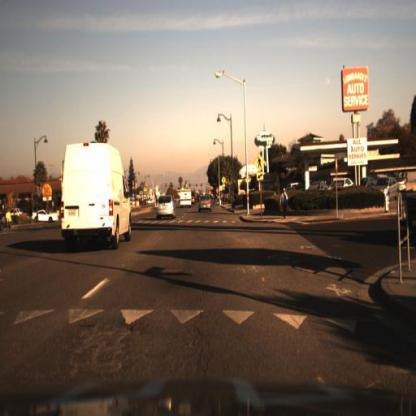car: (62, 142, 132, 249), (155, 193, 178, 222), (329, 176, 356, 197), (32, 208, 59, 226), (179, 187, 196, 212), (198, 192, 213, 215), (309, 178, 328, 196), (188, 193, 199, 211)
pedestrian: (280, 185, 292, 221)
truck: (57, 135, 134, 252), (178, 186, 193, 211)
